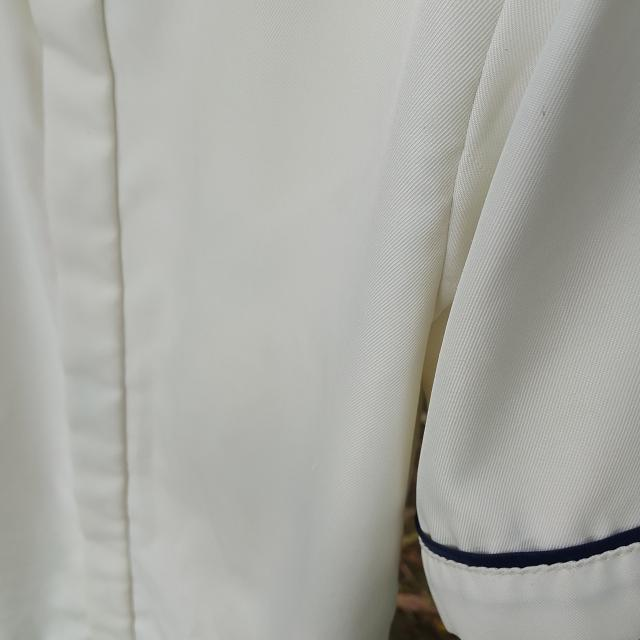education_male_uniform: (314, 0, 640, 640)
